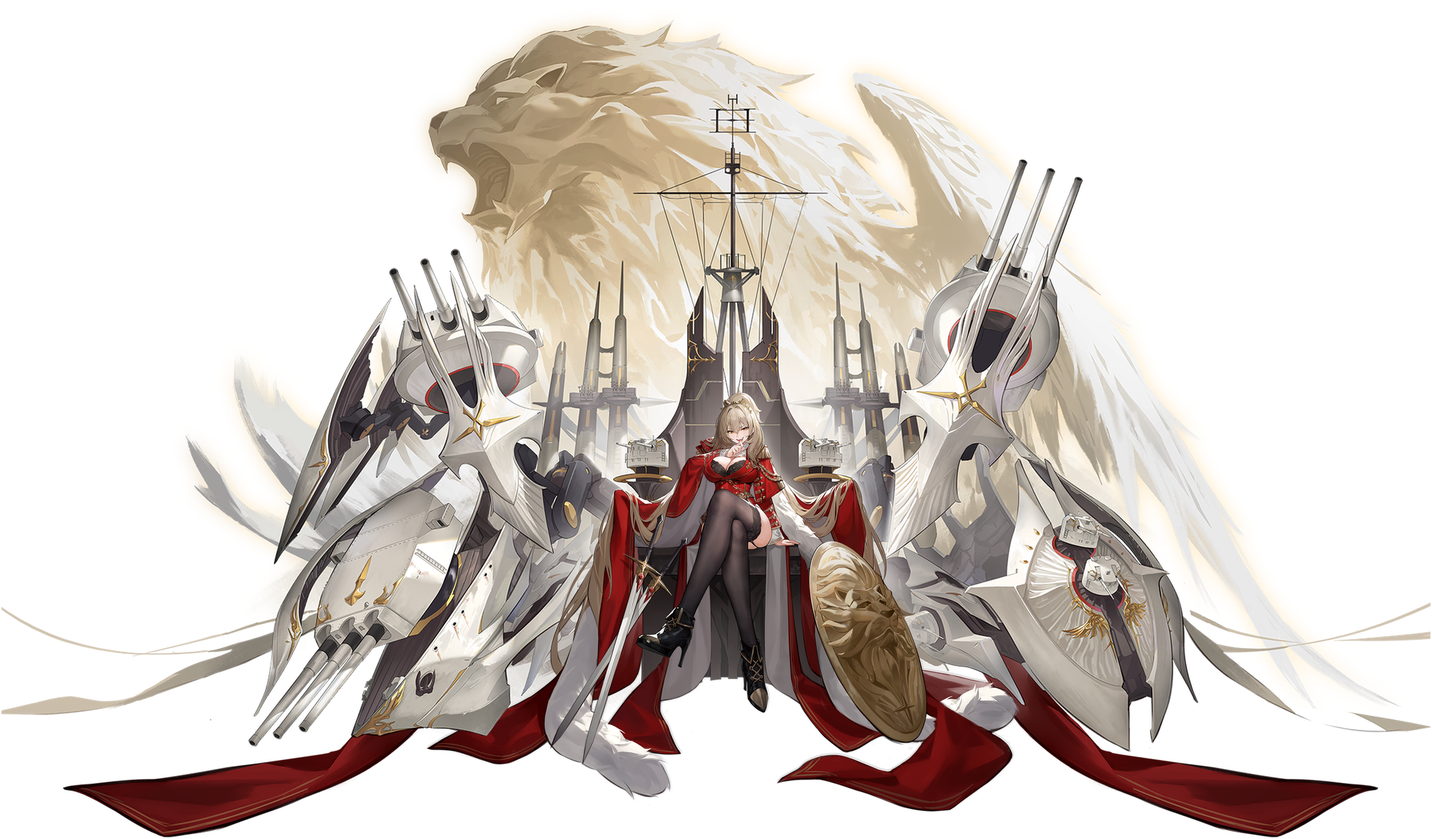person: (615, 376, 853, 790)
